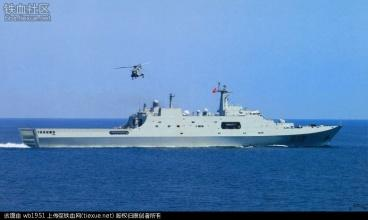airplane: (117, 60, 155, 79)
warship: (14, 79, 350, 151)
